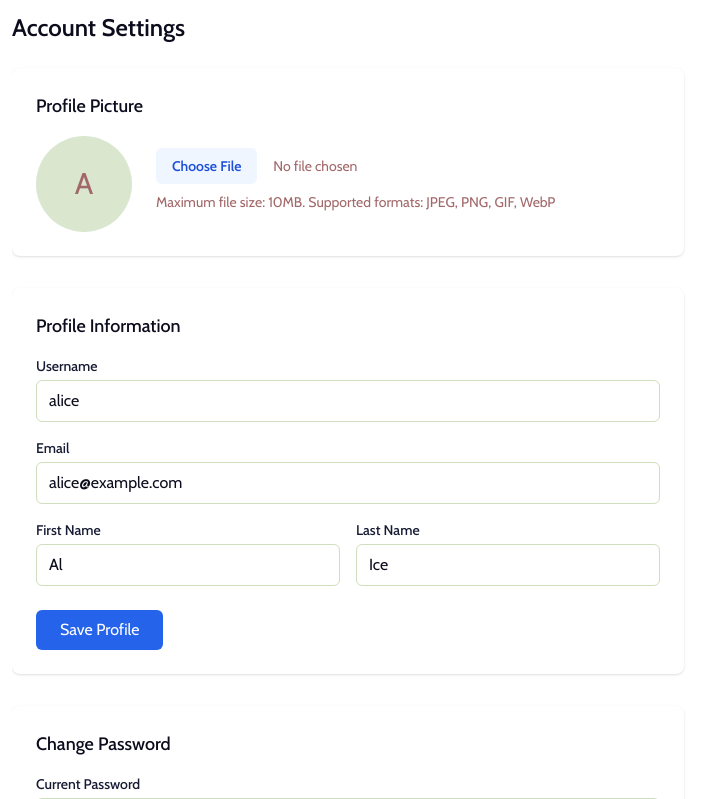
Scenario: UserSettings › surfaces a profile update error
The width and height of the screenshot is (701, 799).
Expected: the field showing "alice" below "Username" is shown, [36,380,660,422]
Step 1. Replace the text in the field showing "alice@example.com" below "Email" with "x@y.z" → (348, 483), box [36,462,660,504]
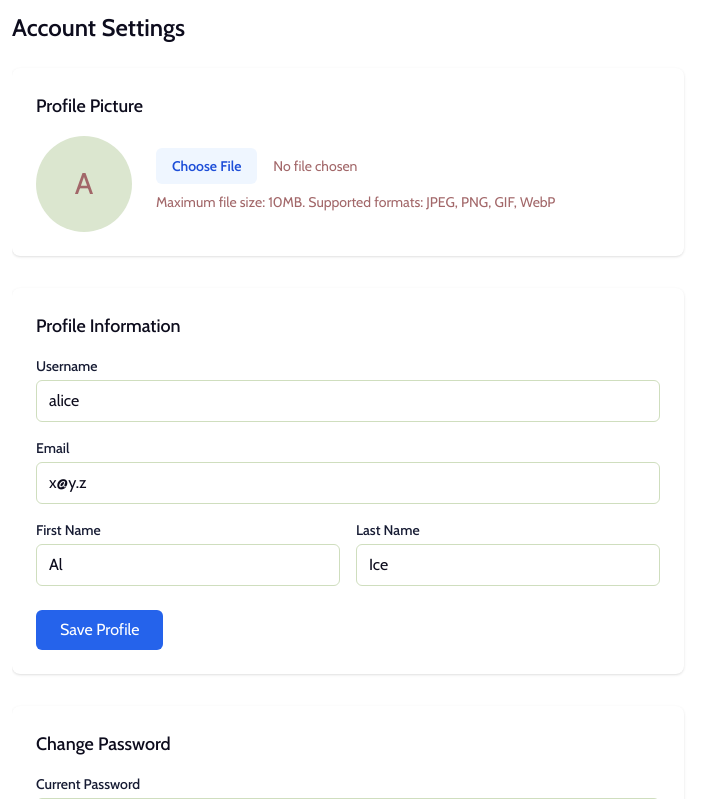
Step 2. Click the button "Save Profile" → (100, 630), box [36,610,163,650]
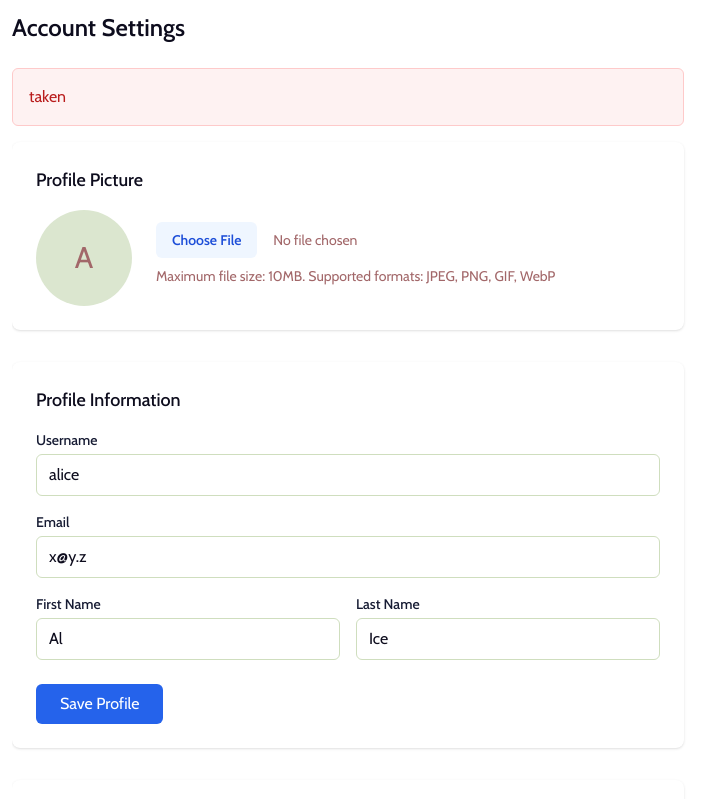
Expected: the text "taken" is shown, [12,68,684,126]
